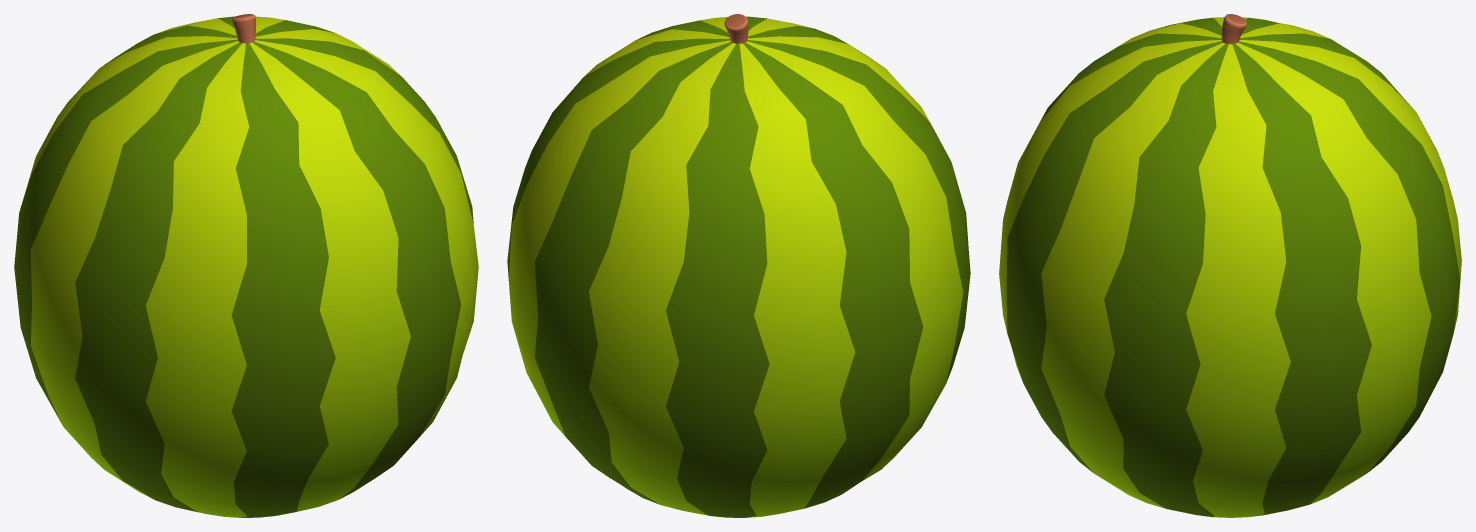
File: Watermelon_V1_00.fbx
3 views of the same model, side by side, from view 1: azimuth 30°, elevation 25°; view 2: azimuth 150°, elevation 25°; view 3: azimuth 270°, elevation 25° (orthographic).
Visible parts, largest first — view 1: Watermelon_V1_00; view 2: Watermelon_V1_00; view 3: Watermelon_V1_00.
Boxes of the visible parts, x1,y1,x2,y2 form: Watermelon_V1_00: (14, 14, 478, 517); Watermelon_V1_00: (507, 14, 970, 517); Watermelon_V1_00: (999, 14, 1461, 517).
Size of the model in its own units: 61.55 by 70.12 by 61.55.
